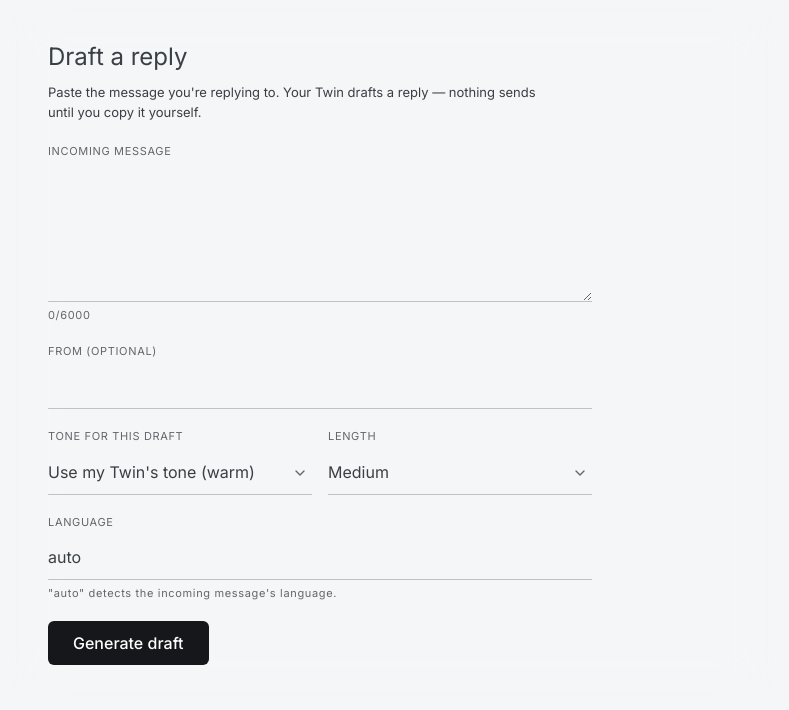
Test: TwinDraftWorkspace — draft review and the draft-only label › Feedback (thumbs) posts the real outcome to POST /api/ai/drafts/:id/feedback and then hides the buttons behind a thank-you notice
The width and height of the screenshot is (789, 710).
Type "Can you send the update today?" into the text box labelled "Incoming message" at [320, 234], box [48,165,592,302]
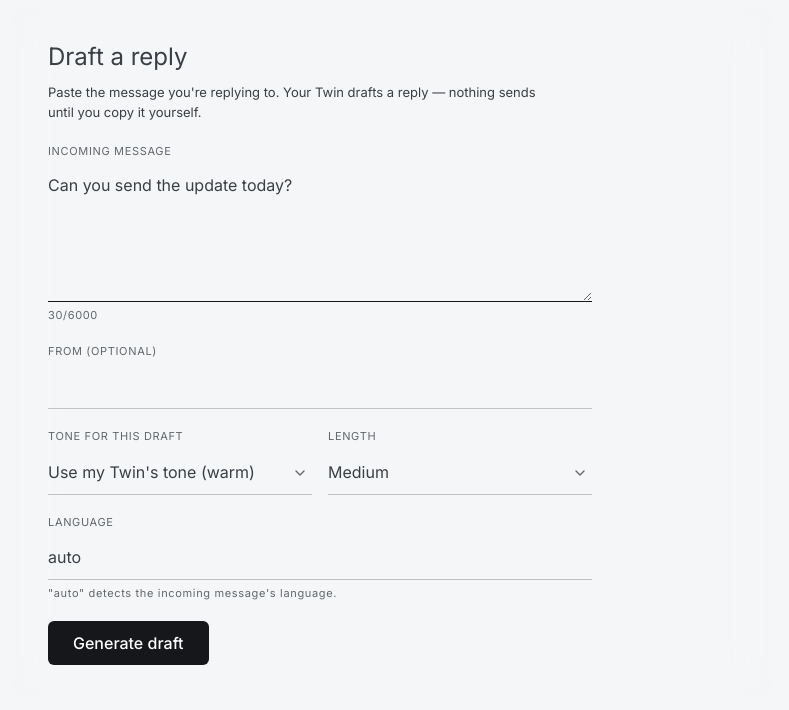
Click the button "Generate draft" at [128, 643], box [48,621,209,665]
(page scrolled)
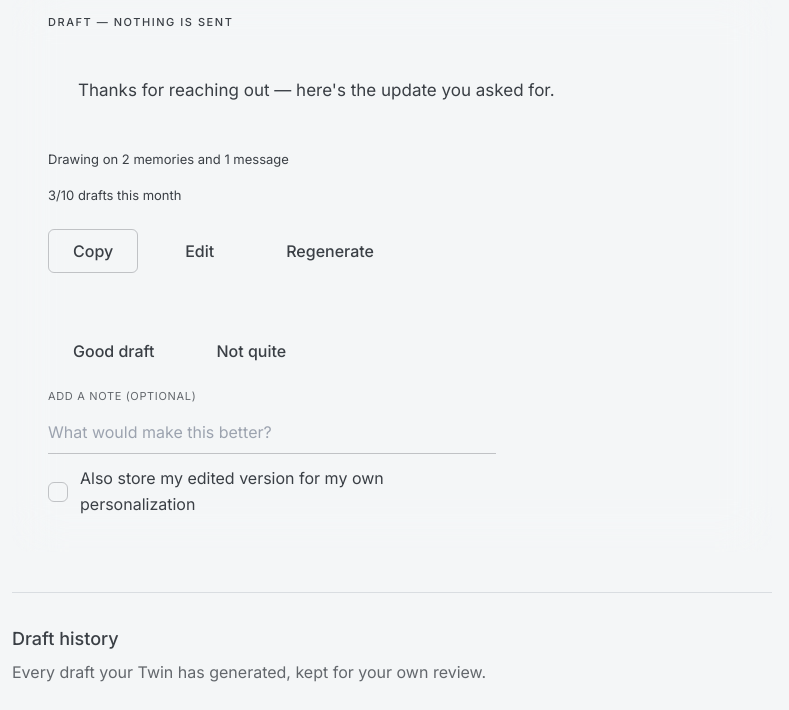
Expected: the text "Thanks for reaching out — here's the update you asked for." is shown, [78,80,555,100]
Click the button "Good draft" at [114, 351], box [48,329,180,373]
(page scrolled)
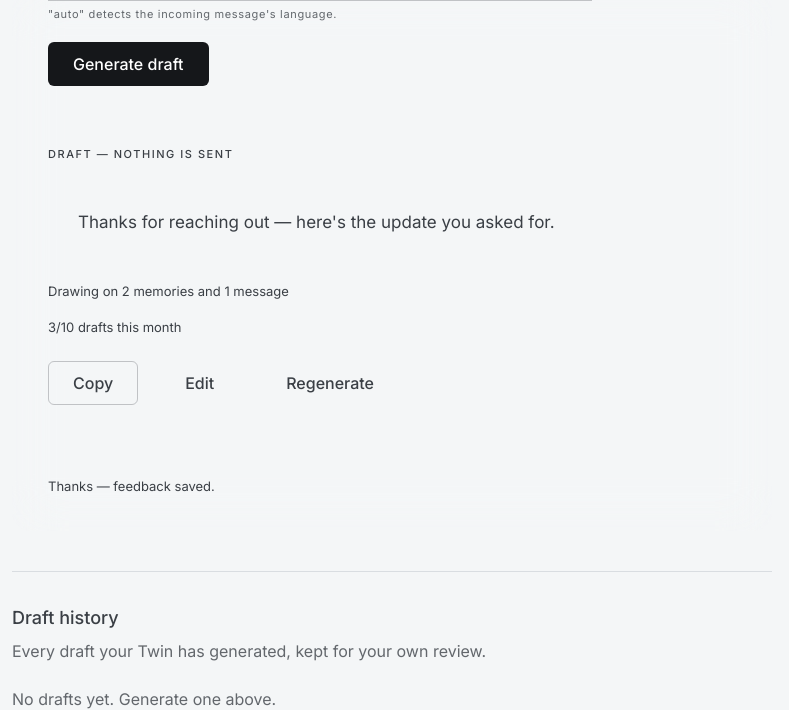
Expected: the text "Thanks — feedback saved." is shown, [48,478,215,494]
Expected: the button "Good draft" is gone
